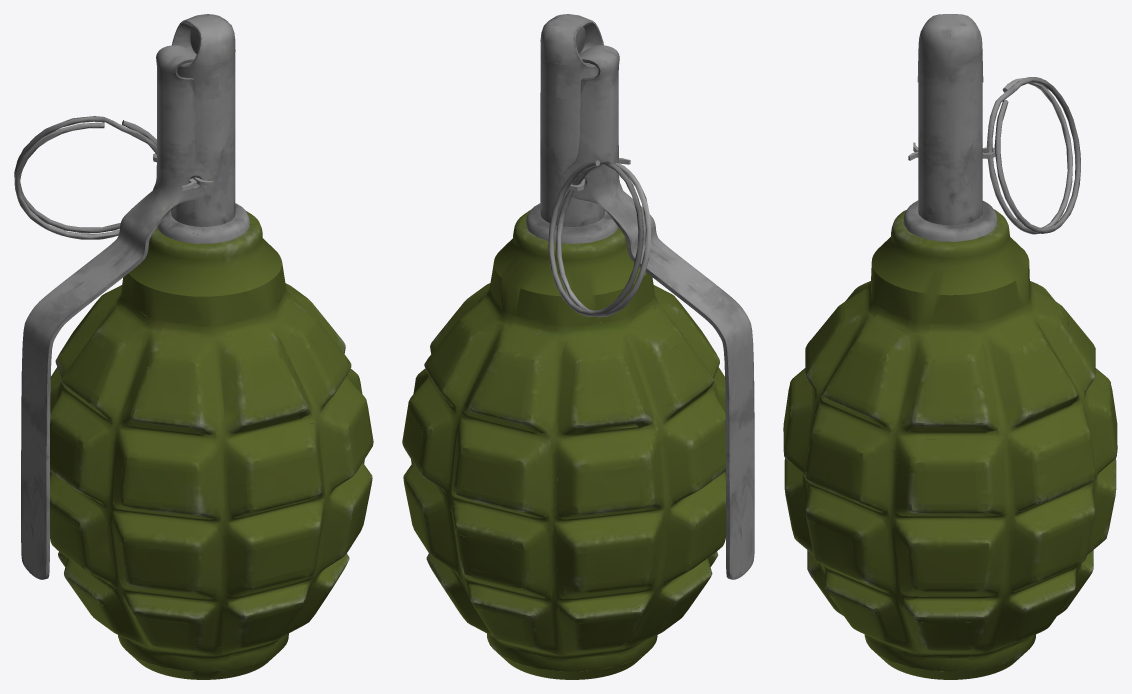
3 renders of one model, left to right at view 1: azimuth 30°, elevation 25°; view 2: azimuth 150°, elevation 25°; view 3: azimuth 270°, elevation 25°, orthographic.
Visible parts, largest first — view 1: f1_body, spoon, pin; view 2: f1_body, spoon, pin; view 3: f1_body, pin.
Boxes of the visible parts, x1=… form: f1_body: x1=50, y1=14, x2=373, y2=679; spoon: x1=21, y1=45, x2=213, y2=579; pin: x1=14, y1=116, x2=213, y2=239; f1_body: x1=402, y1=14, x2=725, y2=679; spoon: x1=562, y1=45, x2=754, y2=579; pin: x1=548, y1=158, x2=651, y2=317; f1_body: x1=783, y1=14, x2=1117, y2=679; pin: x1=908, y1=77, x2=1080, y2=234.
Size of the model in its own units: 0.0612 by 0.117 by 0.0562.
2 materials, 2 textured.
